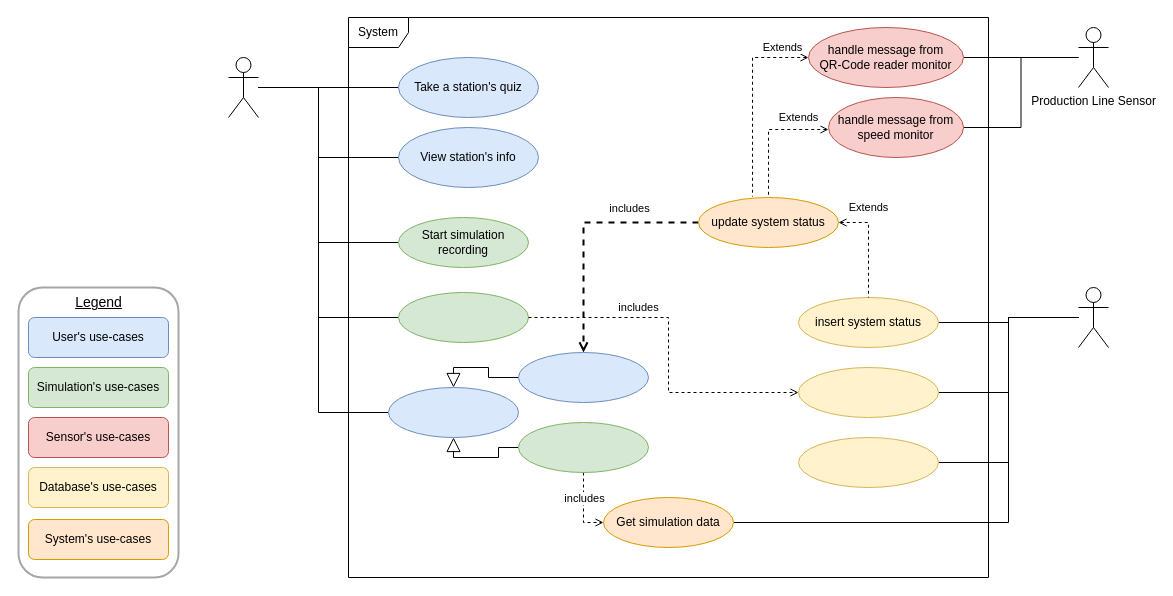
This 1173x596 diagram has some shape labels left out. The shapes that lost their labels are listed below. From the top down, each one's box as (x1, y1, x2, y2) in pixels, then its label:
(228, 56, 258, 118): App User
(398, 292, 528, 342): End simulation recording
(1078, 286, 1108, 348): Mongo Atlas DB
(518, 352, 648, 402): View live system
(798, 366, 938, 418): insert new simulation
(388, 386, 518, 438): View system
(518, 422, 648, 472): View simulation
(798, 436, 938, 488): Get latest system status
